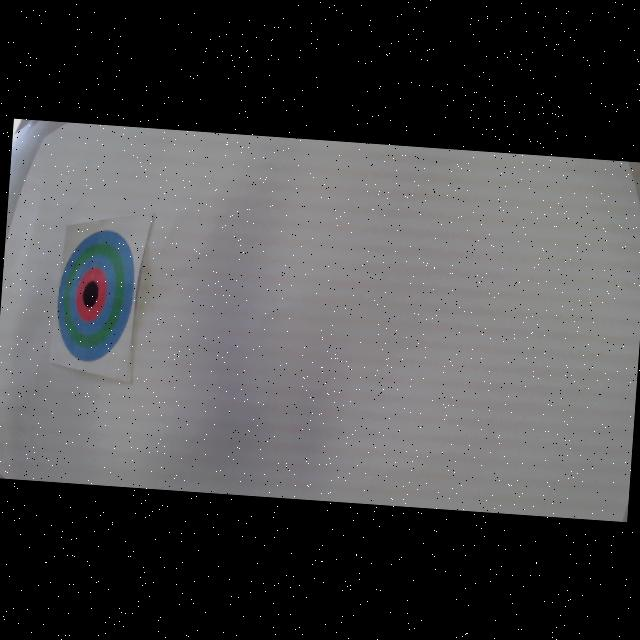COGNITIVE: (54, 226, 138, 365)
